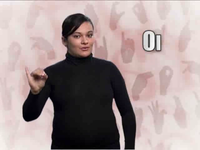oi: (24, 63, 46, 95)
